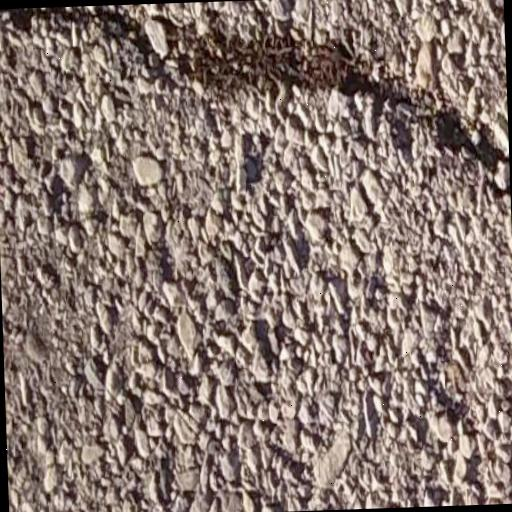spalling: (14, 8, 499, 192)
